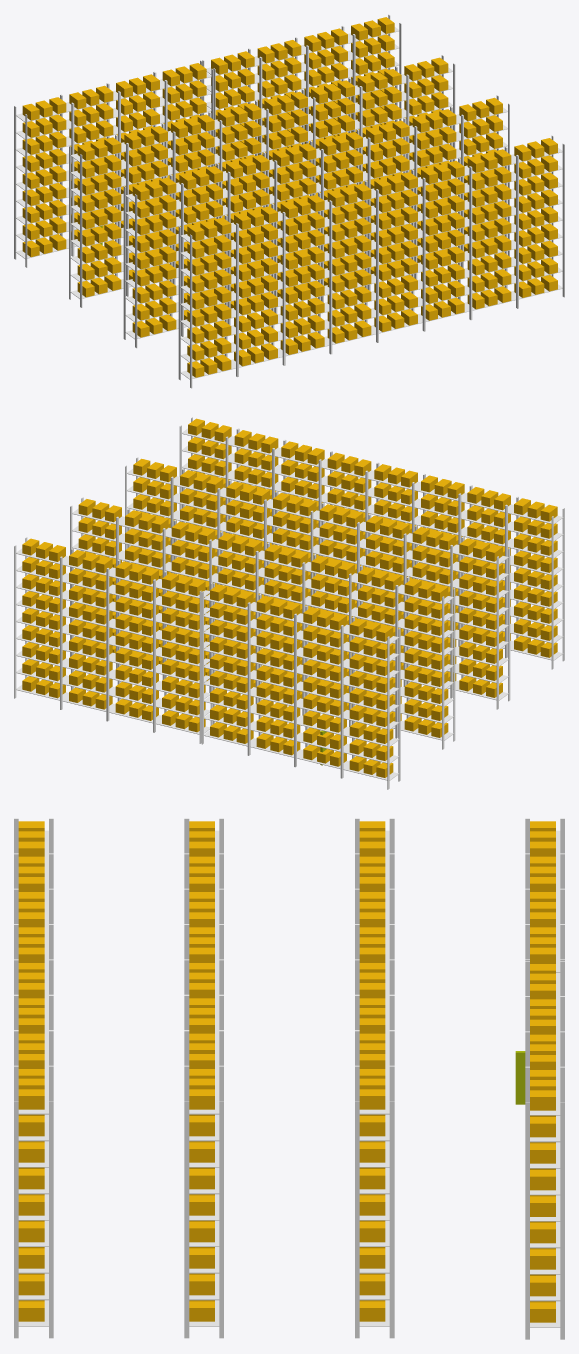
File: angelo.obj
3 views of the same model, one above another, from view 1: azimuth 30°, elevation 25°; view 2: azimuth 150°, elevation 25°; view 3: azimuth 270°, elevation 25° (orthographic). The views are drawn at different scales.
Visible parts, largest first — view 1: no part large enough to name; view 2: no part large enough to name; view 3: 66352.015, 66353.023, 66353.006, 66352.006, 66353.015, 66352.023, 66353.031, 66352.031.
Part boxes in pixels (x1,y1,x2,y2): 66352.015: [389, 1101, 394, 1338]; 66353.023: [184, 1101, 189, 1338]; 66353.006: [525, 1102, 529, 1339]; 66352.006: [560, 1102, 564, 1339]; 66353.015: [355, 1101, 359, 1338]; 66352.023: [219, 1101, 223, 1338]; 66353.031: [14, 1101, 18, 1338]; 66352.031: [49, 1101, 53, 1338].
Bounding box in the file's own units: 15.42 × 6.04 × 12.64.
